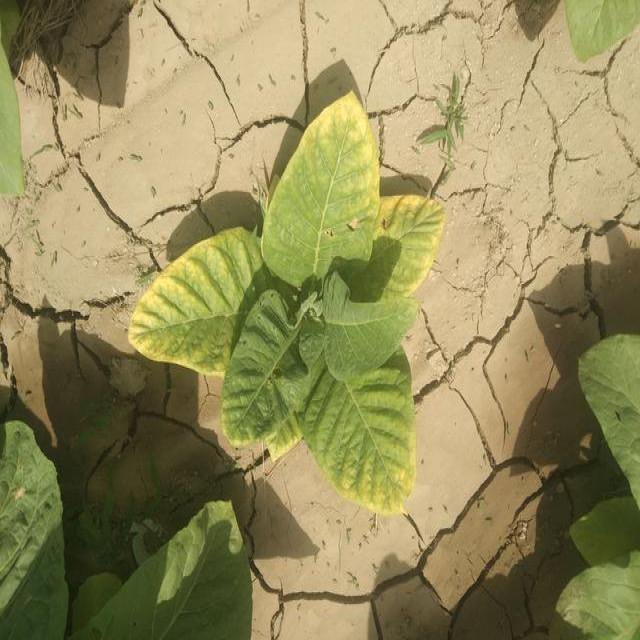crop: (134, 69, 424, 519), (567, 328, 640, 638), (133, 521, 255, 640), (0, 436, 65, 631)
